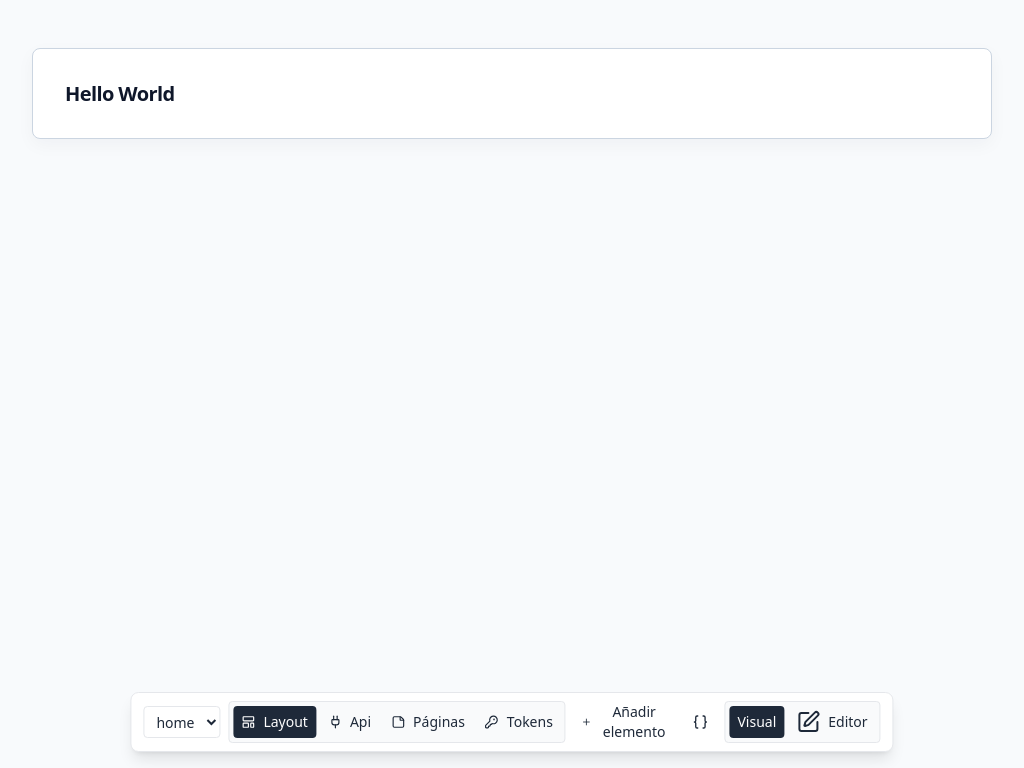
DevRuntime Monaco panel (via toolbar) › closes the Monaco panel when its own close button is clicked
What coordinates should you click on to do the following:
click the button with test id "dev-editor-toolbar-monaco-toggle"
I would click on:
 (700, 722)
Its box is x1=684 y1=706 x2=716 y2=738.
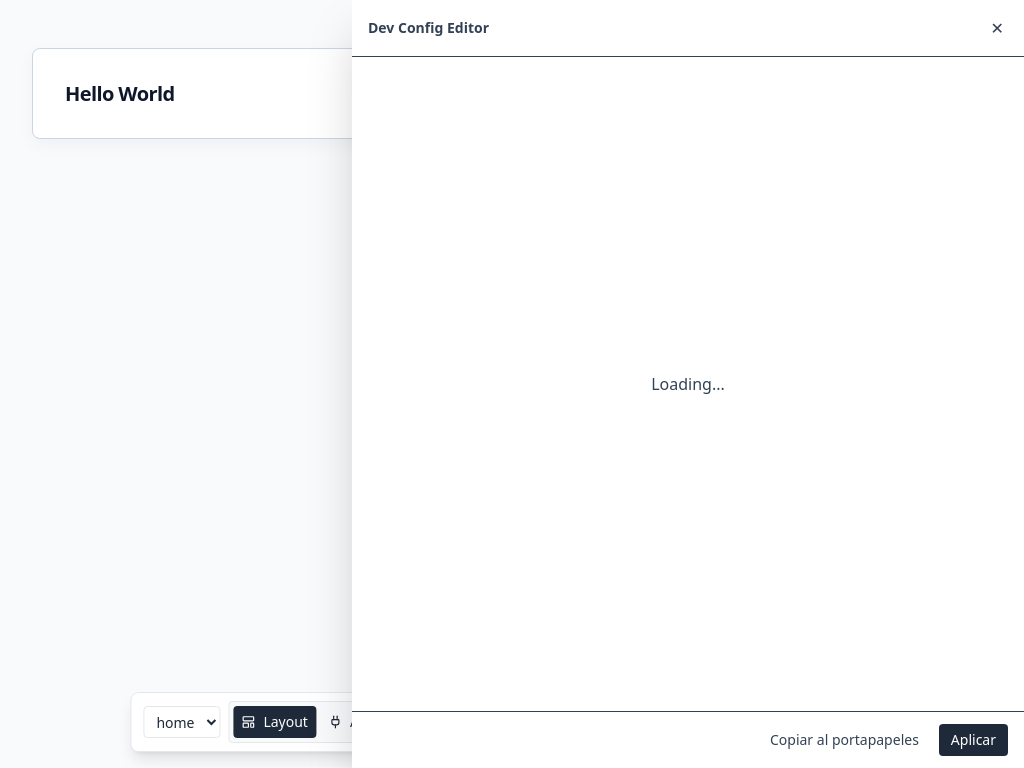
What coordinates should you click on to do the following:
click the button with test id "dev-editor-floating-monaco-close"
I would click on:
 (997, 28)
Its box is x1=987 y1=12 x2=1008 y2=44.
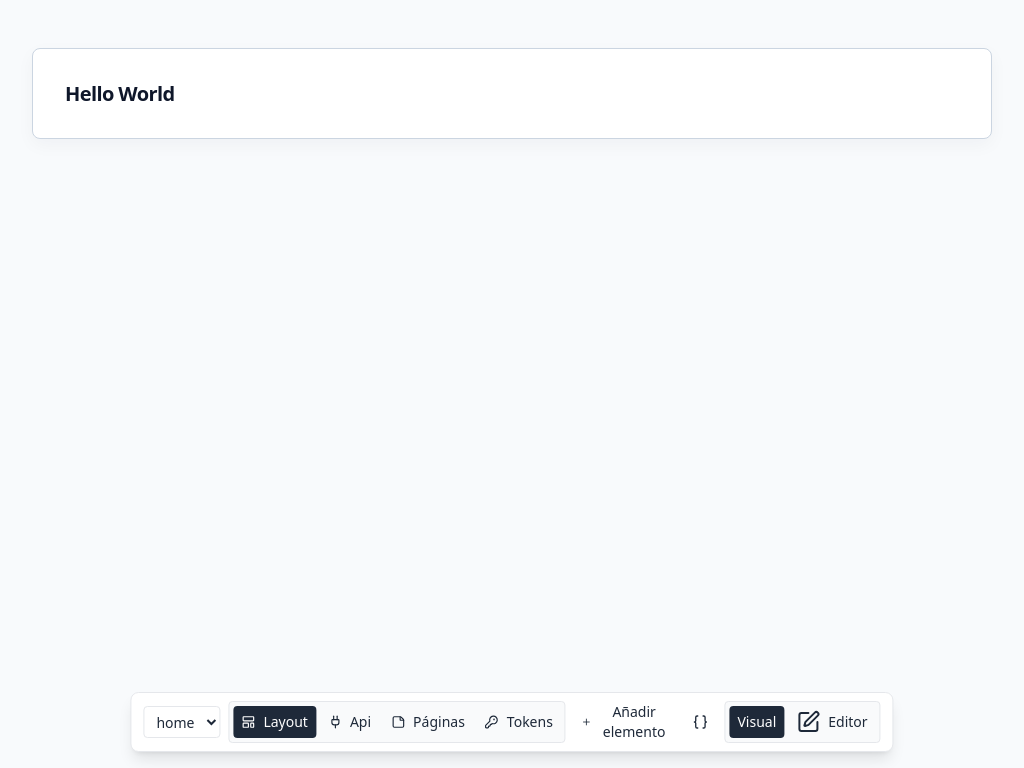
Expected: the dialog with test id "dev-editor-floating-monaco" is gone
